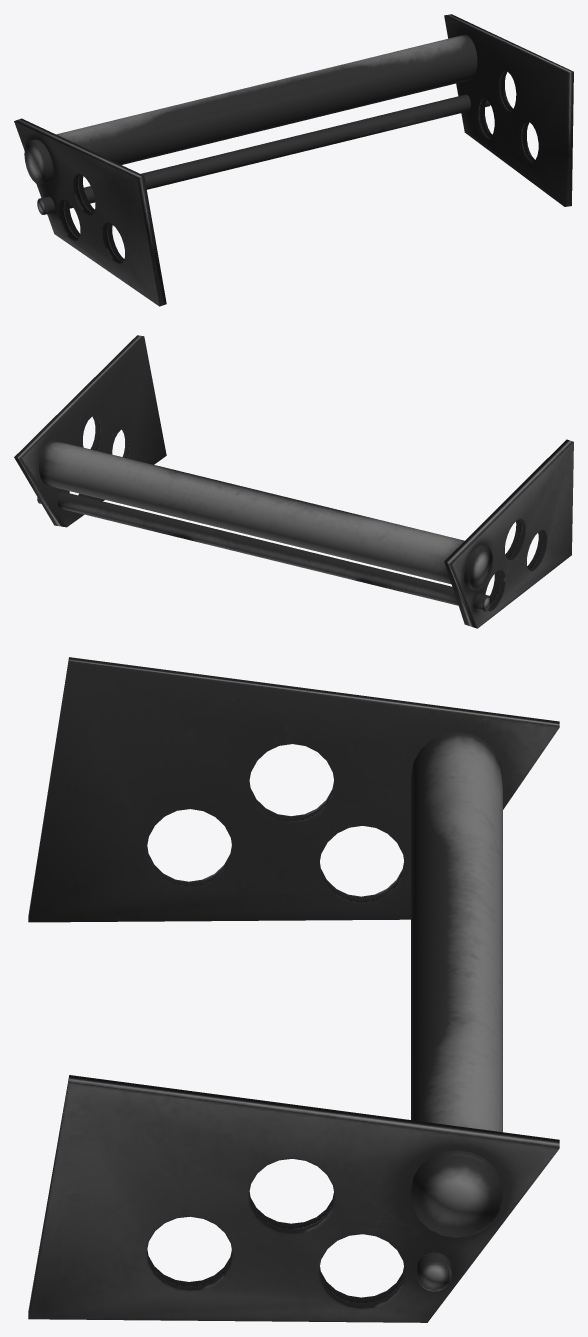
Rendered from Vital_part3.gltf.
3 views of the same model, one above another, from view 1: azimuth 30°, elevation 25°; view 2: azimuth 150°, elevation 25°; view 3: azimuth 270°, elevation 25° (orthographic). The views are drawn at different scales.
Parts seen in each view (by area): view 1: Vital_part3; view 2: Vital_part3; view 3: Vital_part3.
Part boxes in pixels (bbox=[...]): Vital_part3: bbox=[14, 14, 573, 306]; Vital_part3: bbox=[14, 335, 573, 628]; Vital_part3: bbox=[28, 657, 559, 1322].
Bounding box in the file's own units: 0.5738 × 0.1534 × 0.2965.
1 material, 1 textured.
